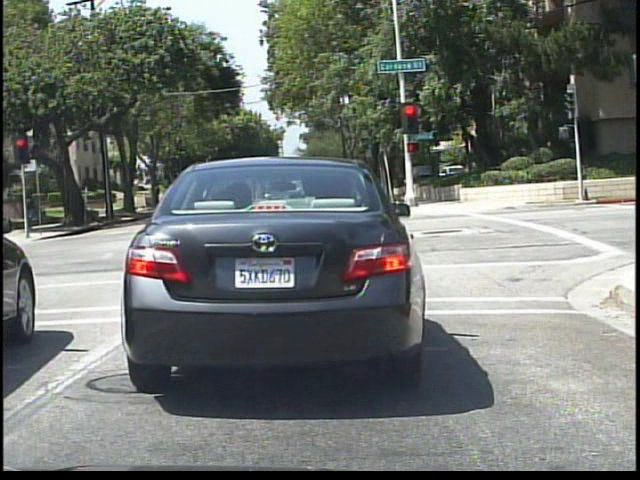person: (21, 185, 41, 235)
